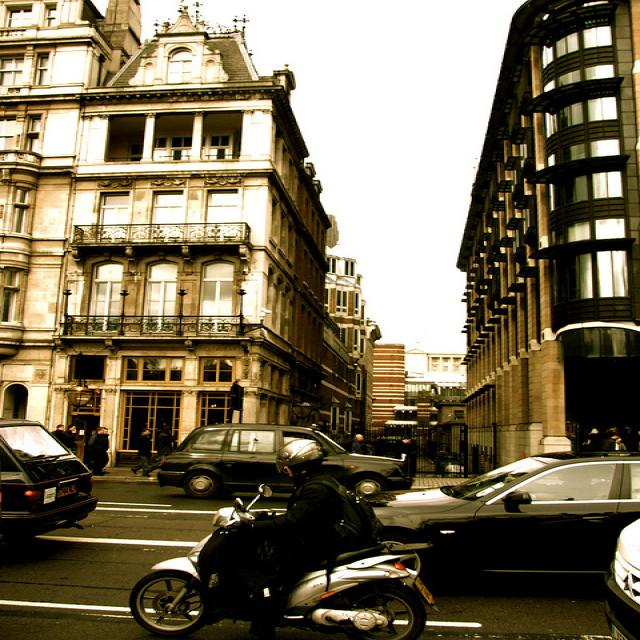motor: (124, 488, 431, 636)
